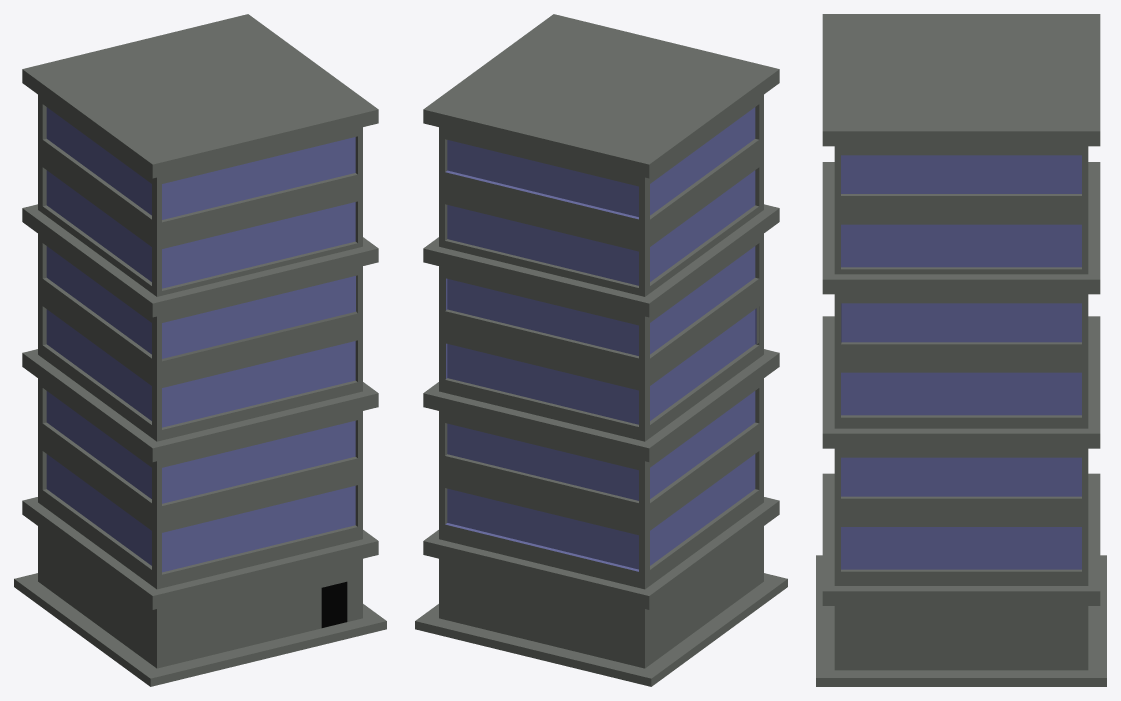
The model's file is ビル色違い.fbx.
The picture shows the model from 3 angles, left to right: view 1: azimuth 30°, elevation 25°; view 2: azimuth 150°, elevation 25°; view 3: azimuth 270°, elevation 25°; orthographic projection. The views are drawn at different scales.
Parts seen in each view (by area): view 1: 立方体; view 2: 立方体; view 3: 立方体.
Boxes of the visible parts, x1=… form: 立方体: x1=14, y1=14, x2=386, y2=686; 立方体: x1=415, y1=14, x2=787, y2=686; 立方体: x1=816, y1=14, x2=1106, y2=686.
Size of the model in its own units: 2293 by 4812 by 2293.
